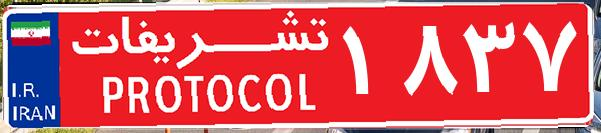1: (340, 20, 400, 115)
3: (460, 20, 520, 115)
7: (520, 20, 580, 115)
8: (400, 20, 460, 115)
تشریفات: (60, 8, 340, 125)
